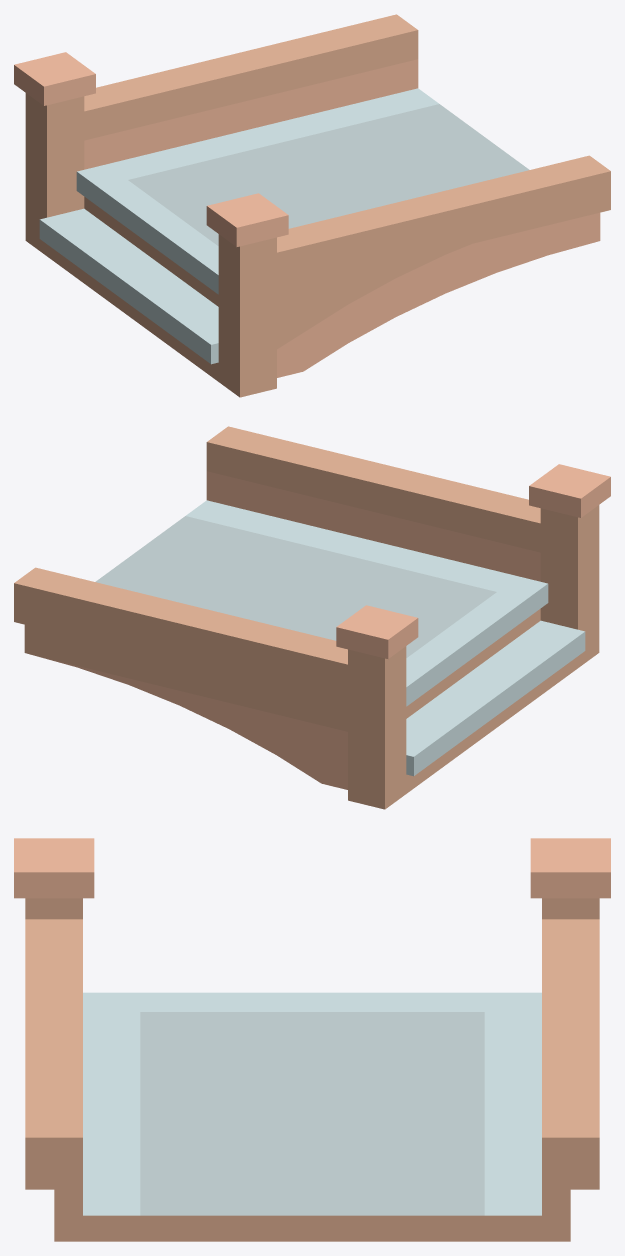
File: bridge_side_woodRound.glb
The picture shows the model from 3 angles, top to bottom: view 1: azimuth 30°, elevation 25°; view 2: azimuth 150°, elevation 25°; view 3: azimuth 270°, elevation 25°; orthographic projection. The views are drawn at different scales.
Visible parts, largest first — view 1: bridge_side_woodRound; view 2: bridge_side_woodRound; view 3: bridge_side_woodRound.
Part boxes in pixels (bbox=[...]): bridge_side_woodRound: bbox=[14, 14, 610, 397]; bridge_side_woodRound: bbox=[14, 426, 610, 809]; bridge_side_woodRound: bbox=[14, 838, 610, 1241].
Size of the model in its own units: 1.02 by 0.45 by 1.04.
